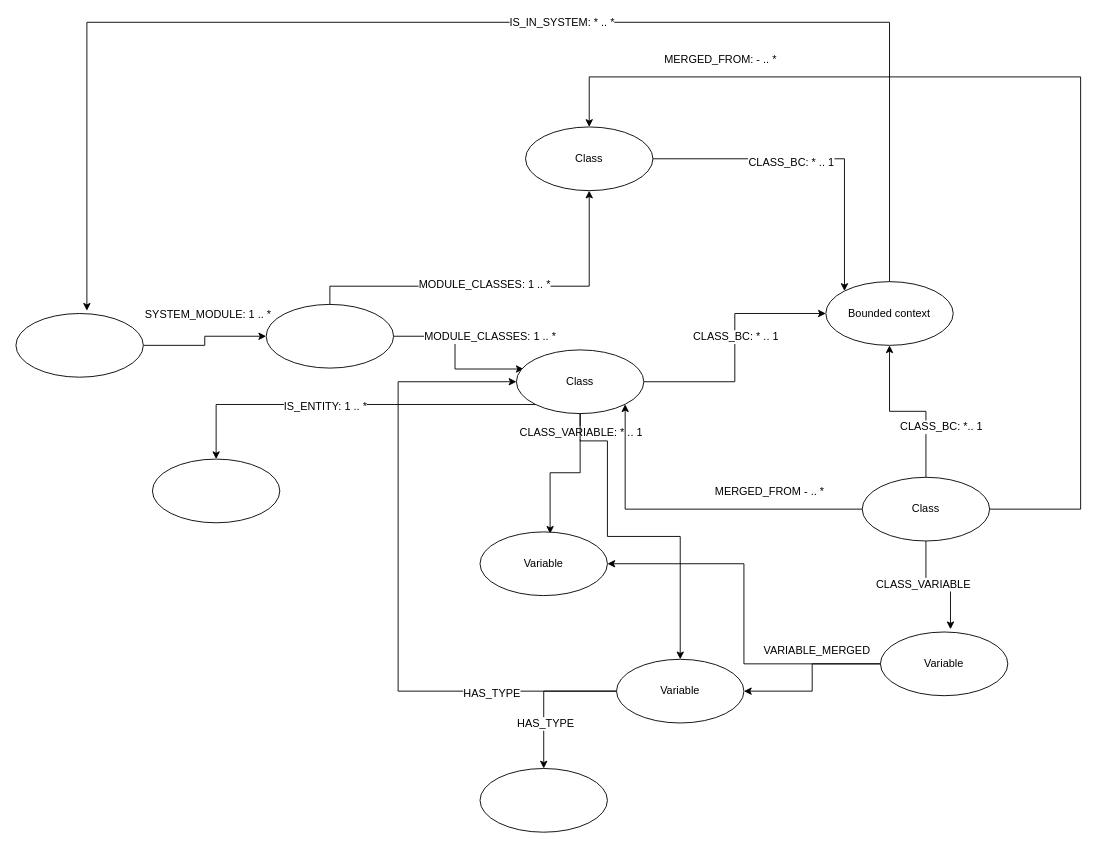
Image size: 1104x848. Some labels were removed from this diagram. The box of each missing label's shape, as (x1, y1, x2, y2) in pixels:
Entity -statically: (152, 458, 280, 523)
Module: (265, 303, 394, 368)
Primitive: (479, 768, 607, 832)
System: (15, 313, 143, 377)
